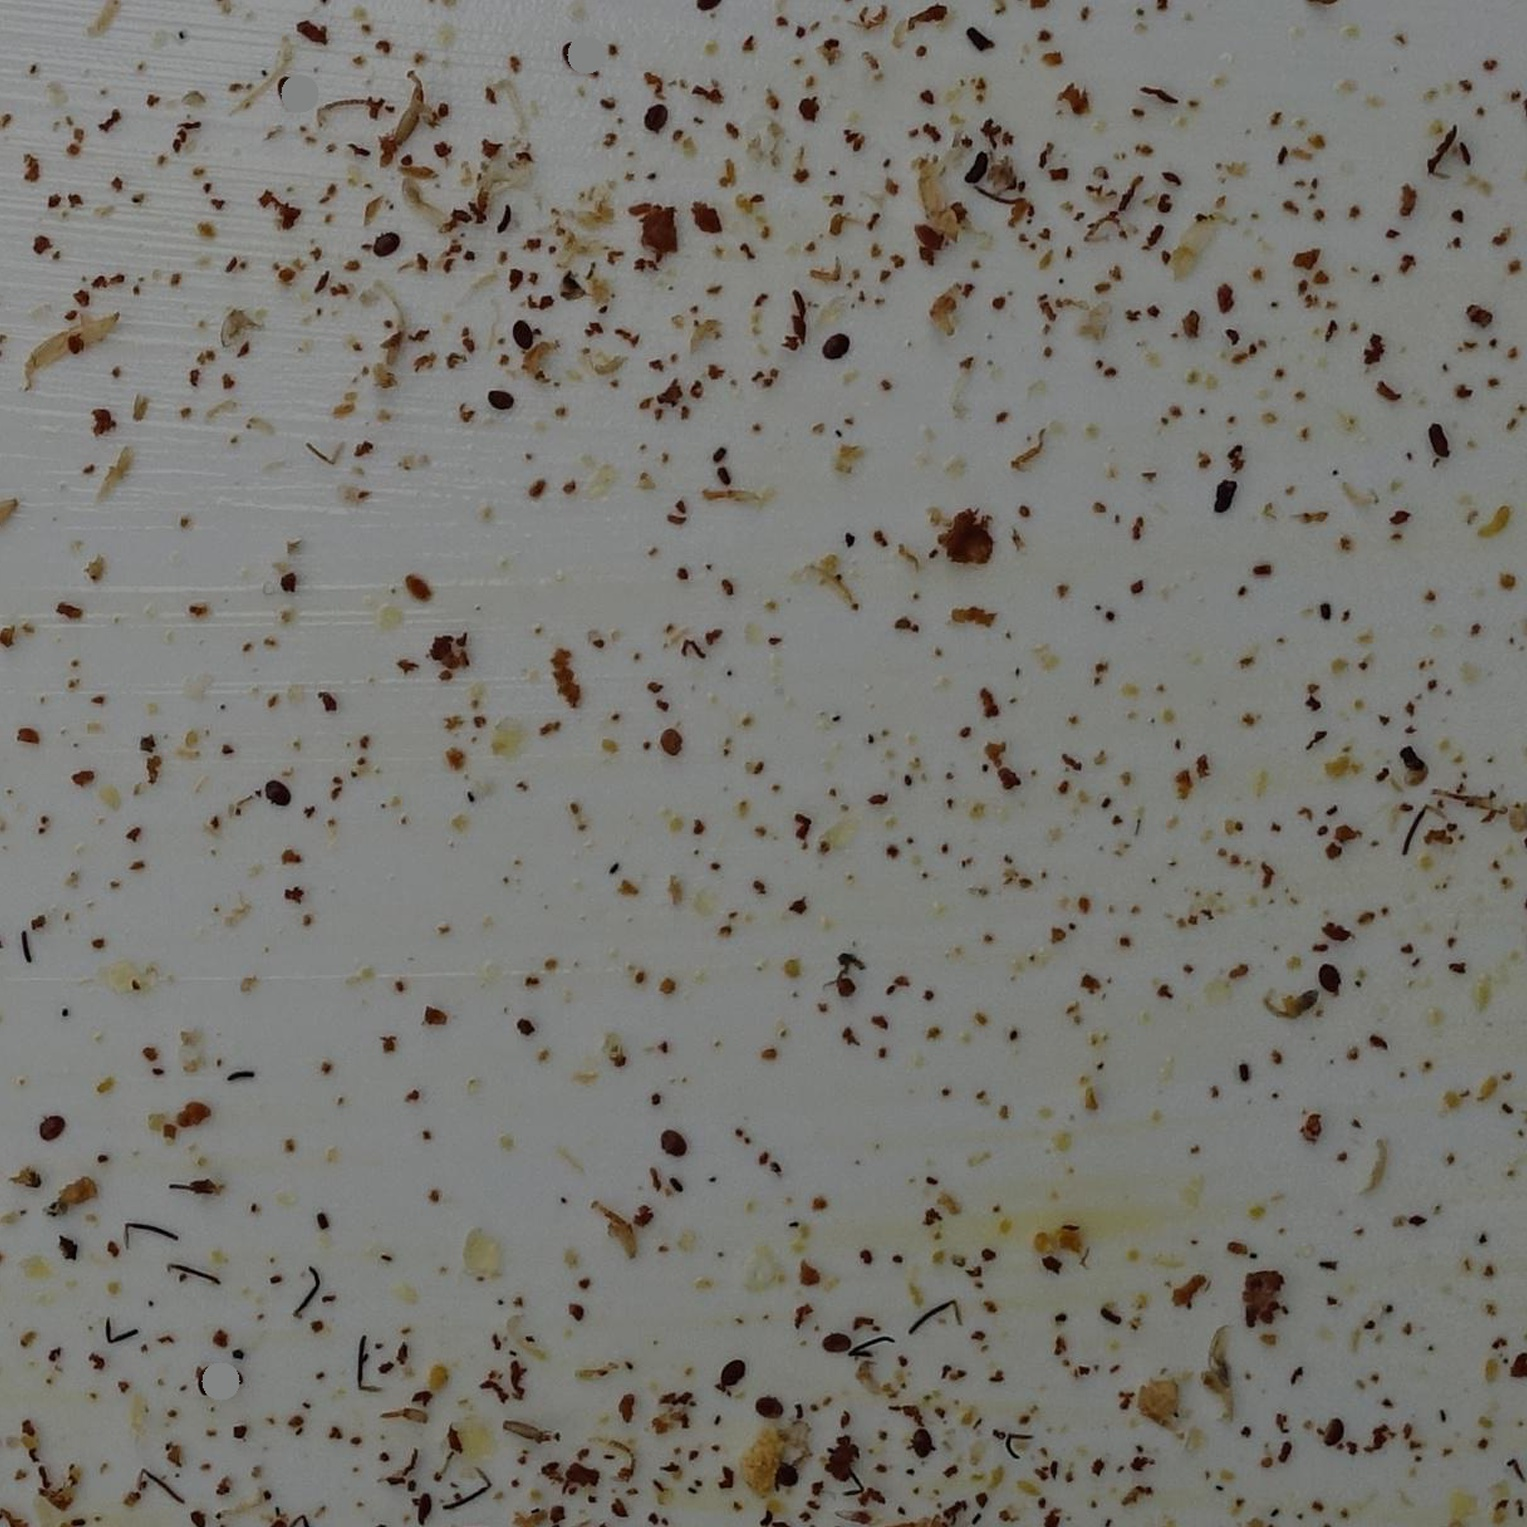Varroa: (654, 727, 685, 757), (773, 1463, 803, 1493), (487, 385, 516, 413), (712, 1354, 740, 1382), (371, 232, 396, 259), (1317, 963, 1342, 989), (824, 1328, 846, 1356), (267, 777, 289, 803), (824, 331, 846, 355), (42, 1112, 64, 1135), (759, 1396, 782, 1419), (1321, 1414, 1342, 1439), (646, 106, 668, 129), (280, 81, 294, 96), (668, 1133, 682, 1147), (519, 326, 531, 338), (568, 48, 579, 59), (915, 1444, 927, 1453)
